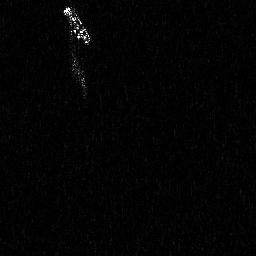ship: (61, 5, 93, 46)
